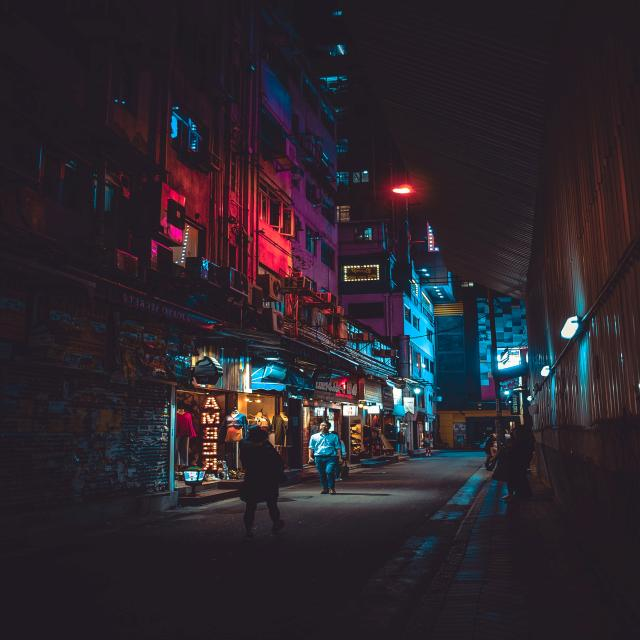adult: (240, 431, 282, 528), (306, 420, 347, 496), (502, 425, 535, 502), (483, 432, 498, 471), (422, 433, 436, 458)
